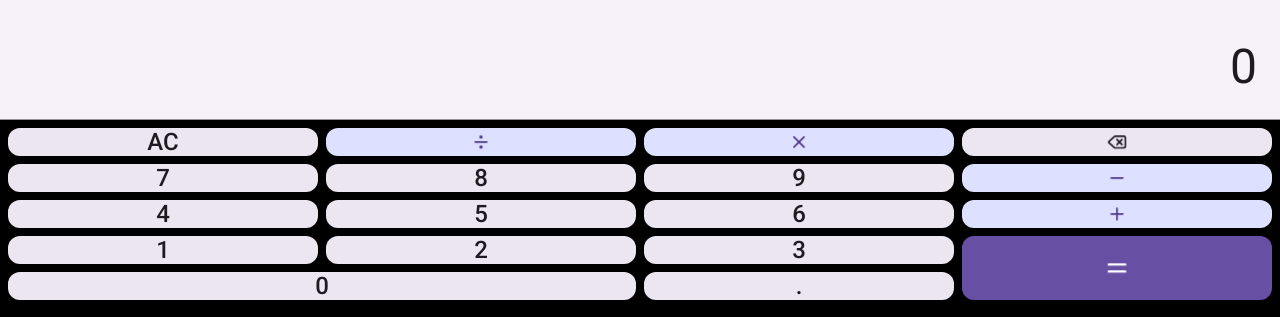
Test: CalculatorApp › handles basic number input
Click the button "1" at (163, 250), box x1=8 y1=236 x2=318 y2=264
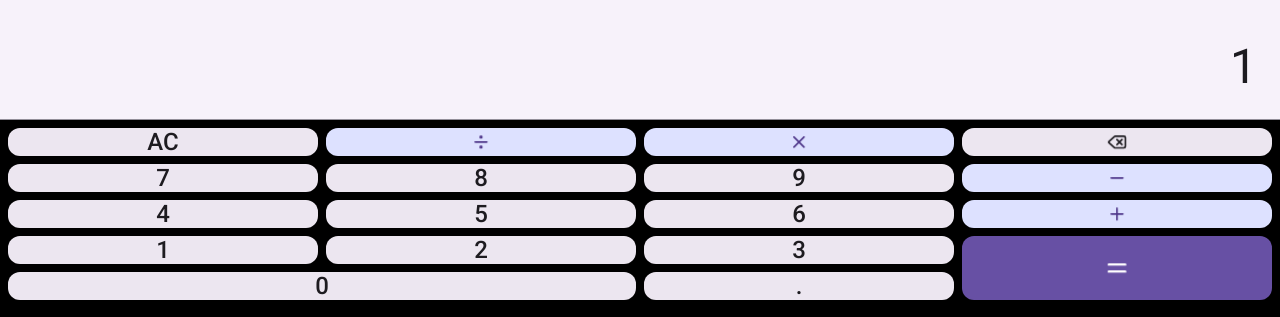
Click the button "2" at (481, 250), box x1=326 y1=236 x2=636 y2=264
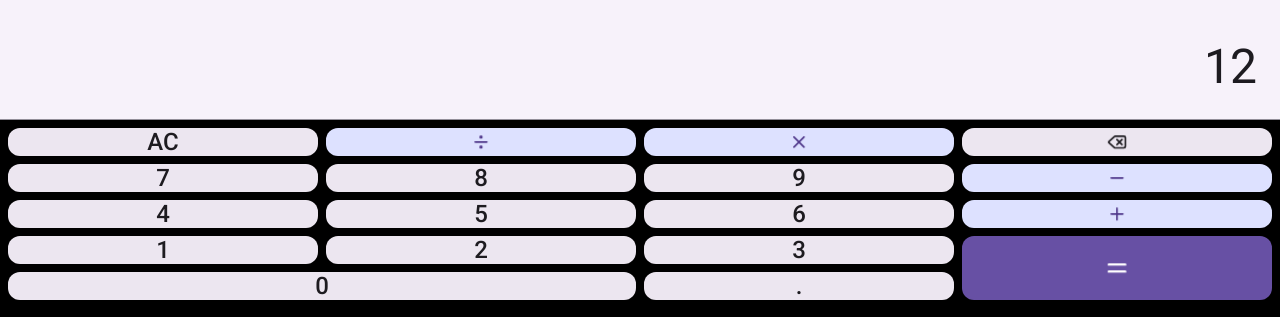
Click the button "3" at (799, 250), box x1=644 y1=236 x2=954 y2=264
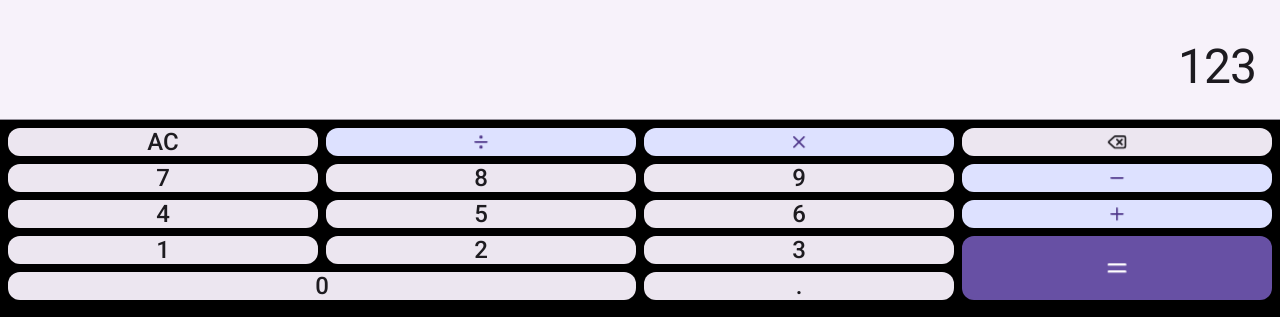
Result: the heading with test id "display" reads "123" at x1=1178 y1=38 x2=1256 y2=95
